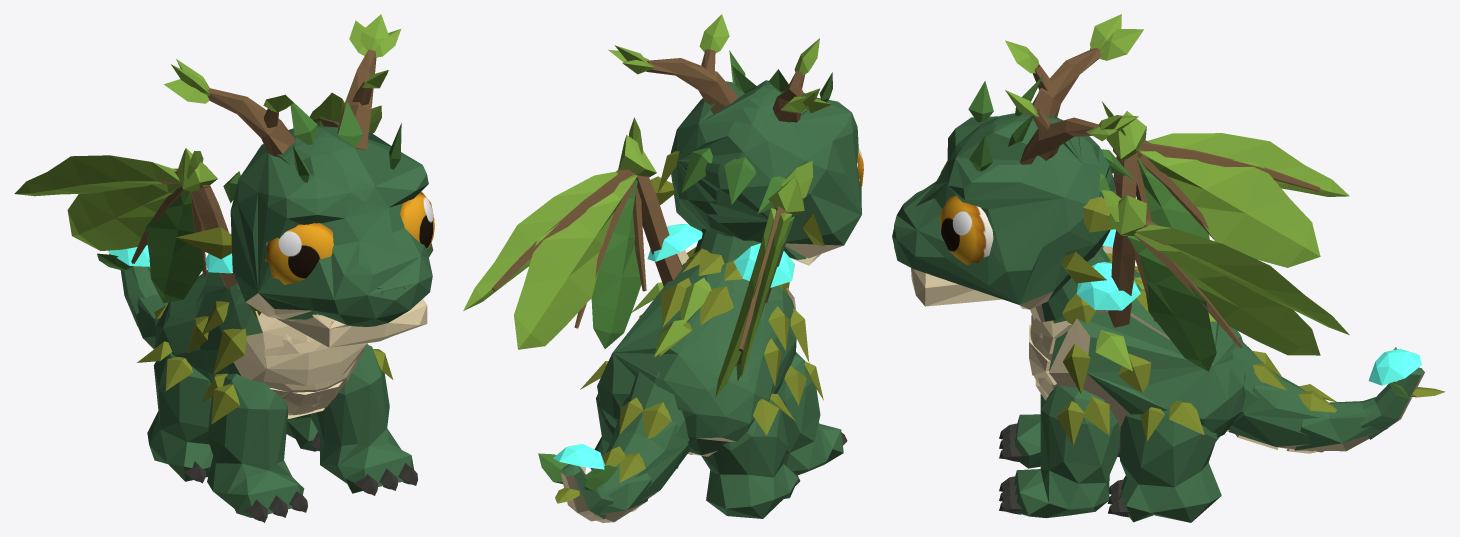
File: mosswood_baby.glb
The picture shows the model from 3 angles, left to right: view 1: azimuth 30°, elevation 25°; view 2: azimuth 150°, elevation 25°; view 3: azimuth 270°, elevation 25°; orthographic projection. The views are drawn at different scales.
Visible parts, largest first — view 1: head, wing_R_tip, body, leg_FR, leg_FL, leg_BR, jaw, tail_4, wing_R, wing_L_tip, tail_3, leg_BL; view 2: head, body, wing_L_tip, leg_BR, wing_R_tip, leg_FR, tail_2, tail_4, tail_1, wing_L, tail_3, neck (+1 smaller); view 3: head, wing_R_tip, body, wing_L_tip, leg_FL, leg_BL, tail_2, tail_4, tail_3, leg_FR, neck, jaw (+3 smaller).
Part boxes in pixels (bbox=[...]): head: bbox=[164, 14, 434, 326]; wing_R_tip: bbox=[14, 148, 217, 303]; body: bbox=[155, 253, 366, 418]; leg_FR: bbox=[201, 373, 307, 522]; leg_FL: bbox=[310, 343, 417, 495]; leg_BR: bbox=[137, 341, 213, 483]; jaw: bbox=[276, 299, 427, 347]; tail_4: bbox=[97, 245, 158, 325]; wing_R: bbox=[190, 185, 236, 289]; wing_L_tip: bbox=[310, 92, 381, 133]; tail_3: bbox=[132, 294, 168, 349]; leg_BL: bbox=[286, 414, 319, 451]; head: bbox=[608, 14, 863, 259]; body: bbox=[597, 224, 809, 456]; wing_L_tip: bbox=[463, 117, 656, 349]; leg_BR: bbox=[701, 393, 800, 518]; wing_R_tip: bbox=[715, 160, 813, 397]; leg_FR: bbox=[777, 352, 847, 475]; tail_2: bbox=[602, 412, 689, 511]; tail_4: bbox=[538, 444, 617, 521]; tail_1: bbox=[619, 371, 689, 446]; wing_L: bbox=[636, 174, 682, 286]; tail_3: bbox=[587, 469, 651, 522]; neck: bbox=[686, 228, 789, 293]; head: bbox=[892, 14, 1143, 309]; wing_R_tip: bbox=[1102, 101, 1349, 267]; body: bbox=[1029, 229, 1245, 437]; wing_L_tip: bbox=[1102, 190, 1349, 371]; leg_FL: bbox=[999, 385, 1120, 518]; leg_BL: bbox=[1107, 401, 1221, 522]; tail_2: bbox=[1228, 370, 1336, 453]; tail_4: bbox=[1360, 347, 1445, 439]; tail_3: bbox=[1294, 401, 1389, 451]; leg_FR: bbox=[999, 394, 1045, 468]; neck: bbox=[1030, 247, 1112, 324]; jaw: bbox=[911, 268, 1002, 306].
Size of the model in its own units: 2.32 by 3.24 by 3.91.
10 materials, 1 textured.
